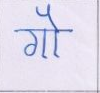e_matra: (36, 6, 62, 29)
